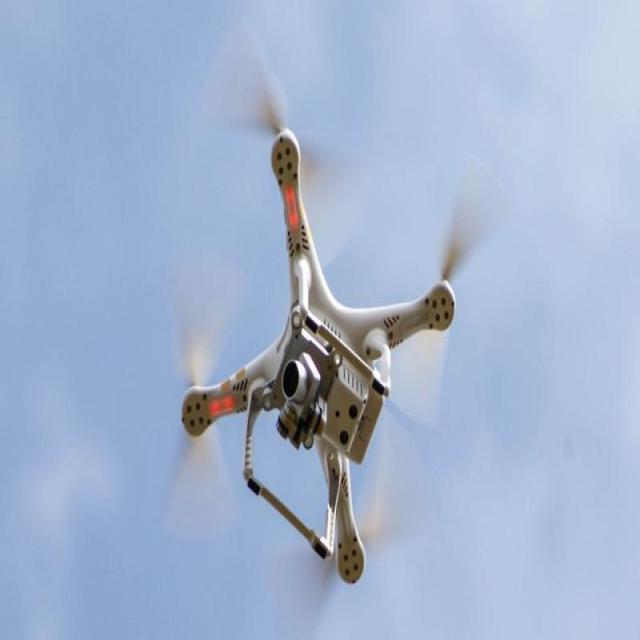drone: (179, 120, 458, 586)
